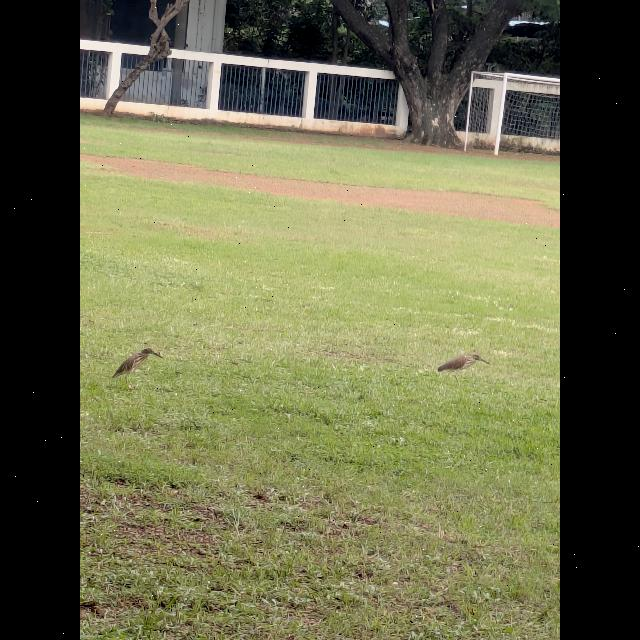heron: (419, 343, 513, 387), (110, 341, 170, 392)
